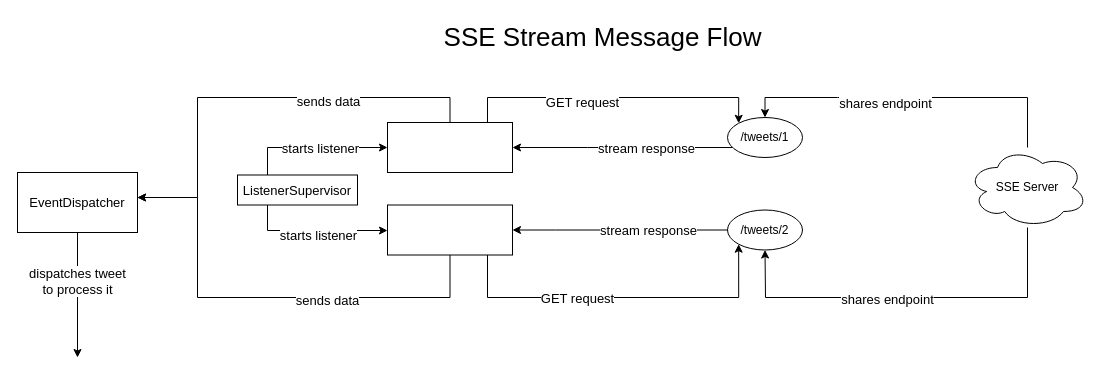
The diagram is 1105 pixels wide and 383 high, and some of its shapes have lost their labels. Here are the shapes that lost their labels. From the top down, the box of each, then its label:
(386, 122, 512, 172): FirstFeedListener
(386, 204, 512, 255): SecondFeedListener
